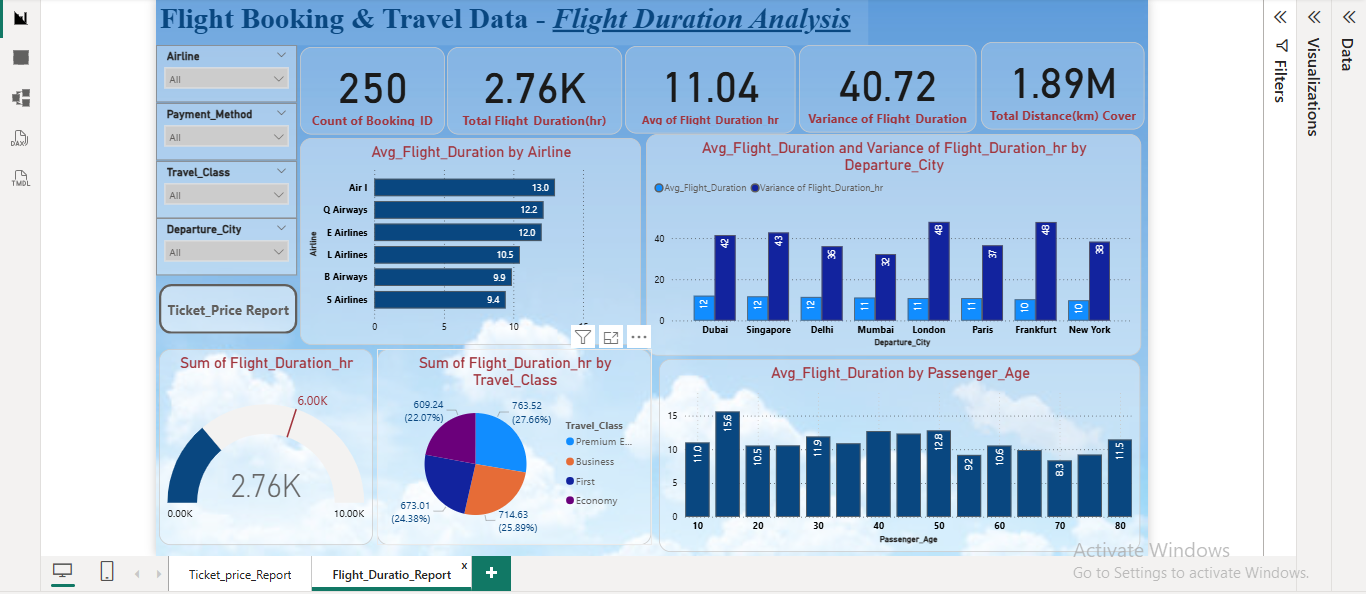

This screenshot's page, from the dashboard's own definition file:
{"tool":"powerbi","page":{"name":"Flight_Duratio_Report","canvas":[1280,720],"ordinal":1},"visuals":[{"type":"textbox","box":[0,0,867.1,60],"z":0},{"type":"card","fields":{"Values":["Count(flight_bookings.Booking_ID)"]},"box":[185.7,62.9,187.1,112.9],"z":1000},{"type":"card","fields":{"Values":["Sum(flight_bookings.Flight_Duration_hr)"]},"box":[830,60,228.6,112.9],"z":2000},{"type":"card","fields":{"Values":["Sum(flight_bookings.Distance_km)"]},"box":[1064.3,57.1,211.4,112.9],"z":3000},{"type":"card","fields":{"Values":["Sum(flight_bookings.Flight_Duration_hr)"]},"box":[375.7,62.9,225.7,112.9],"z":4000},{"type":"barChart","fields":{"Category":["flight_bookings.Airline"],"Y":["flight_bookings.Avg_Flight_Duration"]},"box":[185.7,180,440,267.1],"z":5000},{"type":"clusteredColumnChart","fields":{"Category":["flight_bookings.Departure_City"],"Y":["flight_bookings.Avg_Flight_Duration","Variance(flight_bookings.Flight_Duration_hr)"]},"box":[632.9,175.7,638.6,285.7],"z":6000},{"type":"pieChart","fields":{"Category":["flight_bookings.Travel_Class"],"Y":["Sum(flight_bookings.Flight_Duration_hr)"]},"box":[285.7,452.9,354.3,252.9],"z":9000},{"type":"slicer","fields":{"Values":["flight_bookings.Airline"]},"box":[0,60,182.2,74.4],"z":10000},{"type":"slicer","fields":{"Values":["flight_bookings.Travel_Class"]},"box":[0,210,182.2,74.4],"z":11000},{"type":"slicer","fields":{"Values":["flight_bookings.Departure_City"]},"box":[0,284.4,182.2,74.4],"z":12000},{"type":"slicer","fields":{"Values":["flight_bookings.Payment_Method"]},"box":[0,135.6,182.2,74.4],"z":13000},{"type":"columnChart","fields":{"Category":["flight_bookings.Passenger_Age (bins)"],"Y":["flight_bookings.Avg_Flight_Duration"]},"box":[648.6,465.7,621.4,248.6],"z":14000},{"type":"card","fields":{"Values":["Avg(flight_bookings.Flight_Duration_hr)"]},"box":[605.7,61.4,220,112.9],"z":16000},{"type":"gauge","fields":{"Y":["Sum(flight_bookings.Flight_Duration_hr)"]},"box":[4.3,452.9,275.7,252.9],"z":16001},{"type":"pageNavigator","box":[0,0,400,50],"z":16002},{"type":"actionButton","box":[4.3,368.6,178.6,64.3],"z":16003}]}

Visuals, with their boxes on the page's 1280x720 design canvas (x1, y1, x2, y2). These are canvas units, not pixel positions in the 1366x594 screenshot, which may show the page scaled, cropped or inside an application window:
textbox: [0, 0, 867, 60]
card - Count(flight_bookings.Booking_ID): [186, 63, 373, 176]
card - Sum(flight_bookings.Flight_Duration_hr): [830, 60, 1059, 173]
card - Sum(flight_bookings.Distance_km): [1064, 57, 1276, 170]
card - Sum(flight_bookings.Flight_Duration_hr): [376, 63, 601, 176]
barChart - flight_bookings.Airline x flight_bookings.Avg_Flight_Duration: [186, 180, 626, 447]
clusteredColumnChart - flight_bookings.Departure_City x flight_bookings.Avg_Flight_Duration: [633, 176, 1272, 461]
pieChart - flight_bookings.Travel_Class x Sum(flight_bookings.Flight_Duration_hr): [286, 453, 640, 706]
slicer - flight_bookings.Airline: [0, 60, 182, 134]
slicer - flight_bookings.Travel_Class: [0, 210, 182, 284]
slicer - flight_bookings.Departure_City: [0, 284, 182, 359]
slicer - flight_bookings.Payment_Method: [0, 136, 182, 210]
columnChart - flight_bookings.Passenger_Age (bins) x flight_bookings.Avg_Flight_Duration: [649, 466, 1270, 714]
card - Avg(flight_bookings.Flight_Duration_hr): [606, 61, 826, 174]
gauge - Sum(flight_bookings.Flight_Duration_hr): [4, 453, 280, 706]
pageNavigator: [0, 0, 400, 50]
actionButton: [4, 369, 183, 433]
